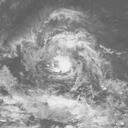cyclone: (51, 53, 79, 80)
